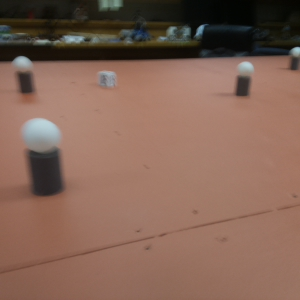blockF: (100, 70, 116, 87)
obstacle: (21, 117, 71, 197), (10, 54, 38, 95), (235, 59, 253, 99), (288, 44, 300, 69)
